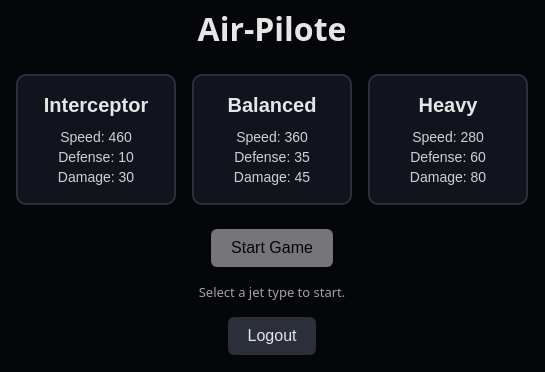
MenuScreen — Jet Type Selection (spec ADDED "Jet Type Selection") › Start button is disabled when no jet type is selected (spec: Cannot start without selecting)
This screenshot has width=545, height=372.
expect the button "Start Game" is disabled: met, box [211,229,333,267]
expect the text "Interceptor" is shown: met, box [44,94,148,117]
What coordinates should you click on to do the following:
click the text "Heavy"
I would click on:
 (448, 106)
Its box is [418,94,477,117].
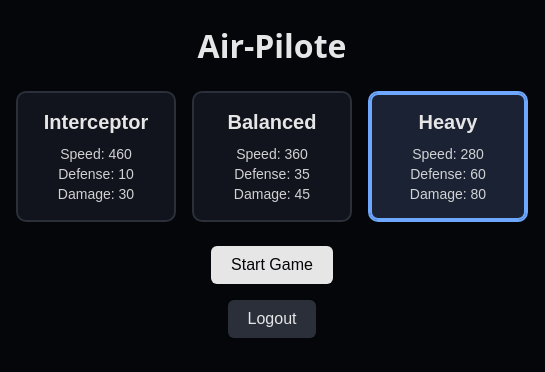
expect the button "Start Game" is enabled: met, box [211,246,333,284]
